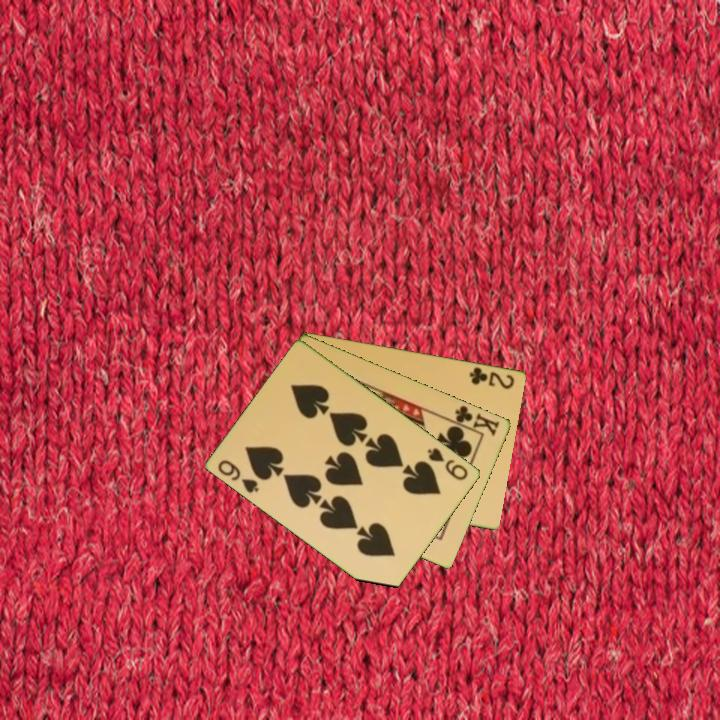2c: (466, 363, 517, 392)
9s: (214, 456, 262, 496), (424, 444, 471, 483)
Kc: (446, 402, 503, 439)
